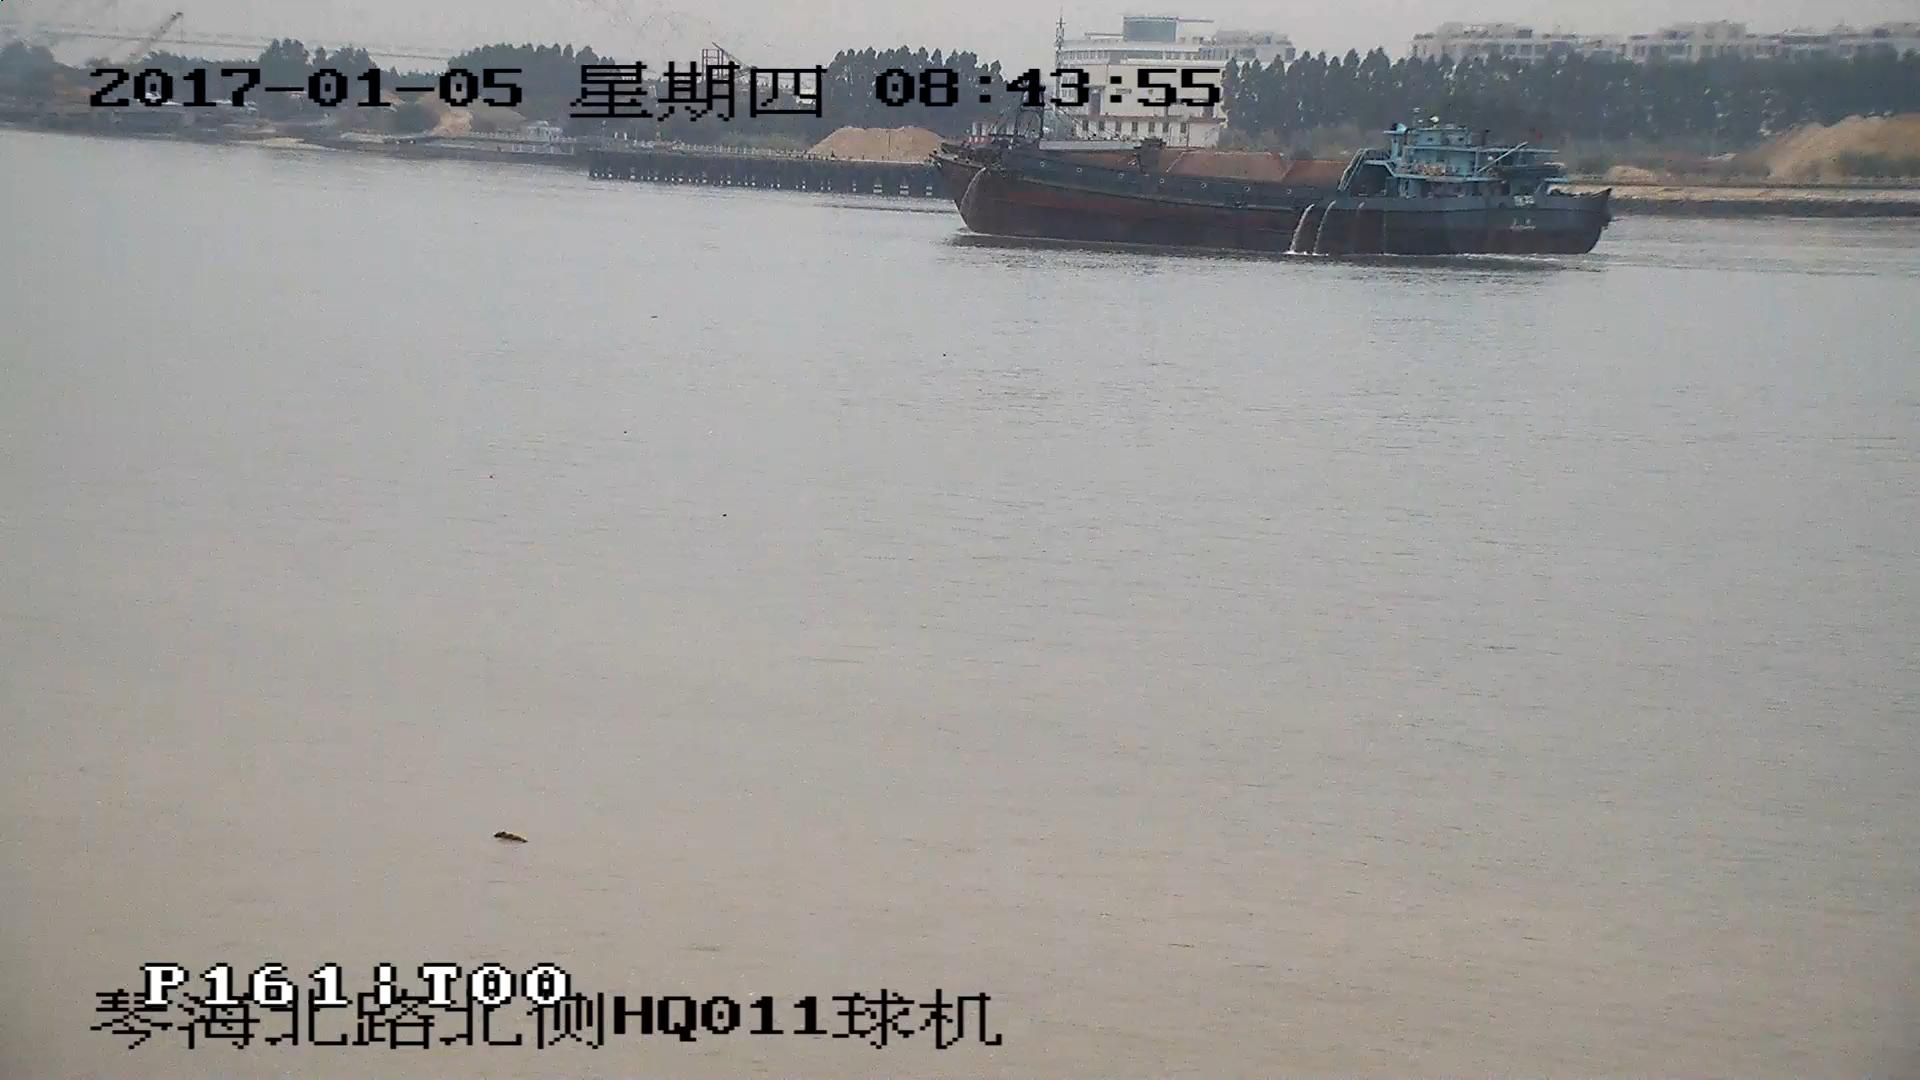bulk cargo carrier: (931, 111, 1610, 252)
